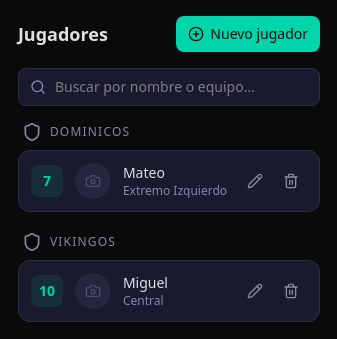
Test: AdminJugadoresPage › filters players by team name
Type "Vikingos" into the field with placeholder "Buscar por nombre o equipo…" at (169, 87), box x1=18 y1=68 x2=320 y2=106
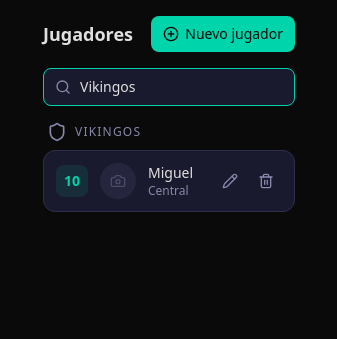
expect the text "Miguel" is shown: met, box x1=148 y1=163 x2=193 y2=182
expect the link "Mateo" is gone: met
